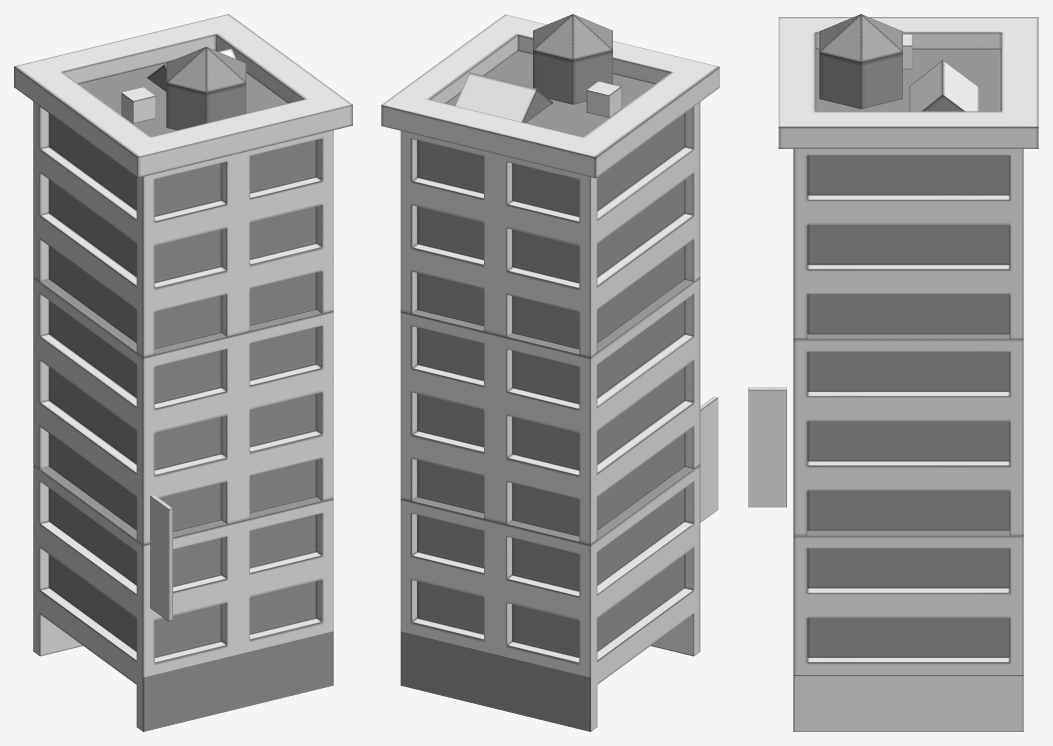
File: Building-05.fbx
The picture shows the model from 3 angles, left to right: view 1: azimuth 30°, elevation 25°; view 2: azimuth 150°, elevation 25°; view 3: azimuth 270°, elevation 25°; orthographic projection. The views are drawn at different scales.
Parts seen in each view (by area): view 1: Building_05; view 2: Building_05; view 3: Building_05.
Part boxes in pixels (x1,y1,x2,y2): Building_05: (14, 14, 352, 731); Building_05: (381, 14, 719, 731); Building_05: (748, 14, 1038, 731).
Bounding box in the file's own units: 2.26 × 6.41 × 2.52.
